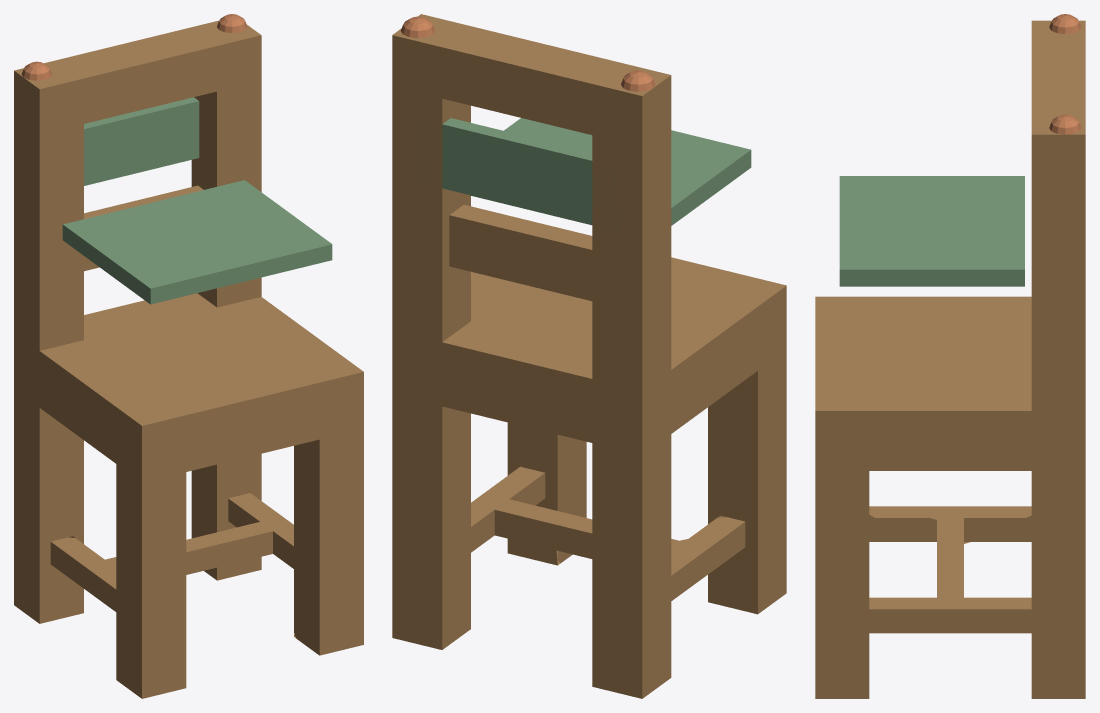
File: chair.glb
The picture shows the model from 3 angles, left to right: view 1: azimuth 30°, elevation 25°; view 2: azimuth 150°, elevation 25°; view 3: azimuth 270°, elevation 25°; orthographic projection. The views are drawn at different scales.
Visible parts, largest first — view 1: chair(Clone); view 2: chair(Clone); view 3: chair(Clone).
Part boxes in pixels (x1=…): chair(Clone): x1=14, y1=14, x2=363, y2=698; chair(Clone): x1=392, y1=14, x2=786, y2=698; chair(Clone): x1=815, y1=14, x2=1085, y2=698.
Size of the model in its own units: 0.2 by 0.47 by 0.2.
